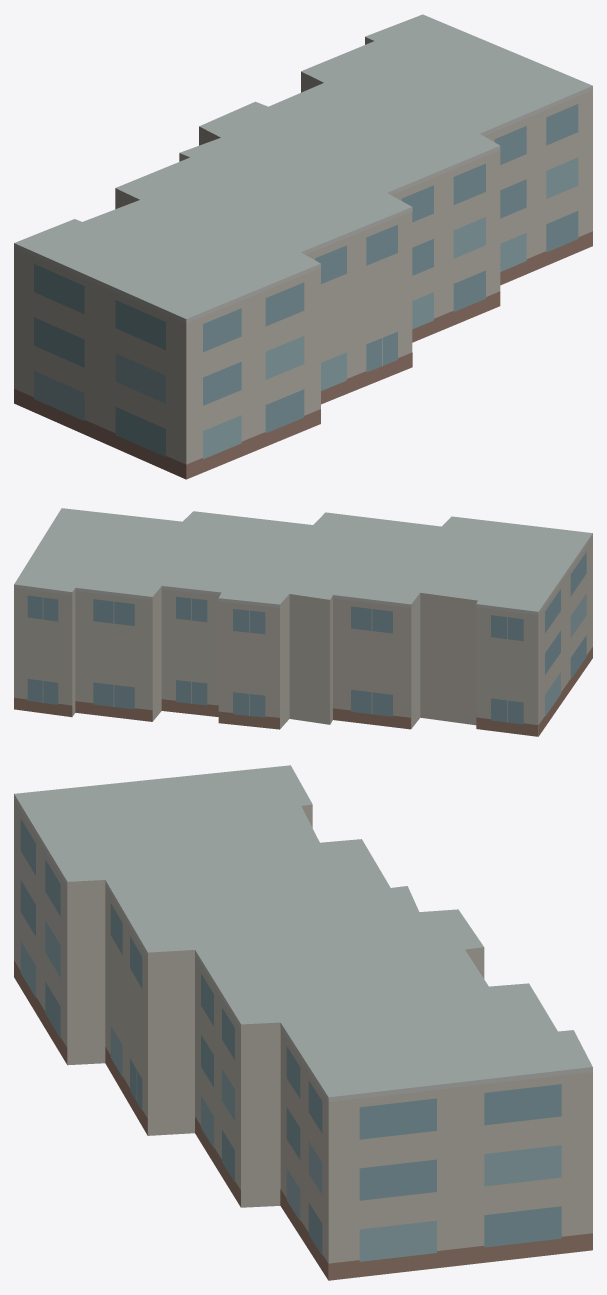
File: survey-upis-32693241.glb
3 views of the same model, one above another, from view 1: azimuth 30°, elevation 25°; view 2: azimuth 150°, elevation 25°; view 3: azimuth 270°, elevation 25° (orthographic). The views are drawn at different scales.
Visible parts, largest first — view 1: survey-upis-32693241.tmp; view 2: survey-upis-32693241.tmp; view 3: survey-upis-32693241.tmp.
Boxes of the visible parts, <box> form: survey-upis-32693241.tmp: <box>14,14,592,479</box>; survey-upis-32693241.tmp: <box>14,508,592,736</box>; survey-upis-32693241.tmp: <box>14,765,592,1280</box>.
Size of the model in its own units: 35.56 by 9.15 by 26.19.
